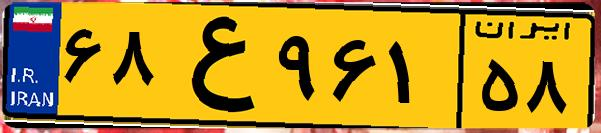1: (385, 28, 445, 110)
5: (475, 38, 525, 113)
6: (330, 28, 385, 110), (57, 26, 110, 100)
8: (525, 38, 570, 115), (110, 28, 158, 98)
9: (270, 28, 330, 110)
ع: (158, 12, 270, 120)
